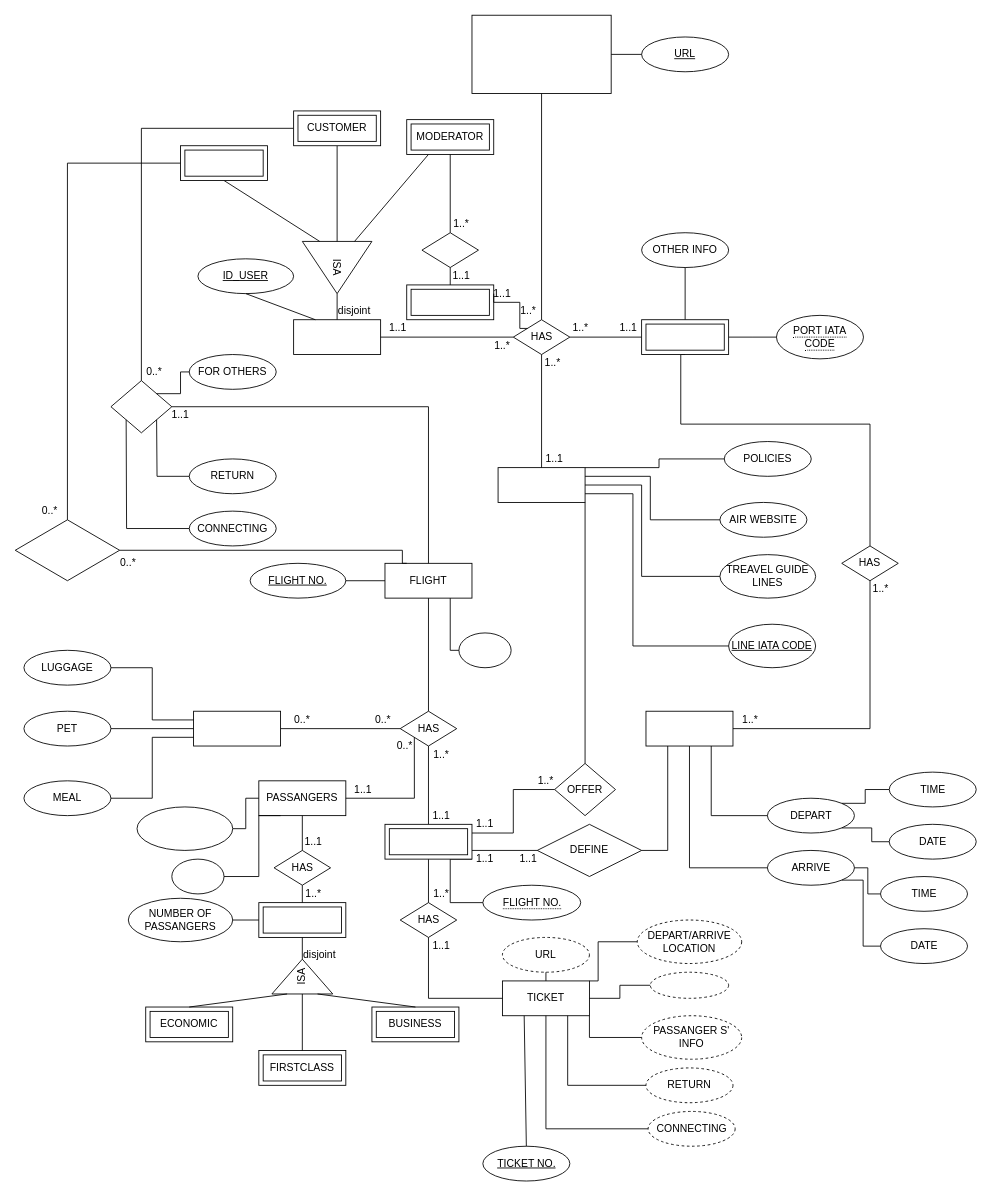
Image size: 992x1196. Some labels were removed from this diagram. Each missing label, with the box of its shape:
AIRLINE: (497, 467, 585, 502)
AIRLINEUSER: (180, 145, 268, 181)
AIRPORT: (641, 319, 729, 355)
BOOK: (110, 380, 172, 433)
CLASS: (258, 902, 346, 937)
FINAL PRICE: (649, 971, 729, 998)
FLIGHT ROUT: (384, 823, 472, 859)
INFORMATION: (406, 284, 494, 320)
LOCATION: (645, 710, 733, 746)
MODIFY: (14, 519, 120, 581)
NAME: (171, 858, 224, 894)
OPTION: (193, 710, 281, 746)
PASSPORT NO.: (136, 806, 233, 850)
PRICE: (458, 632, 511, 668)
USER: (293, 319, 381, 355)
VERIFY: (421, 232, 478, 268)
WEBSITE: (471, 14, 611, 94)
